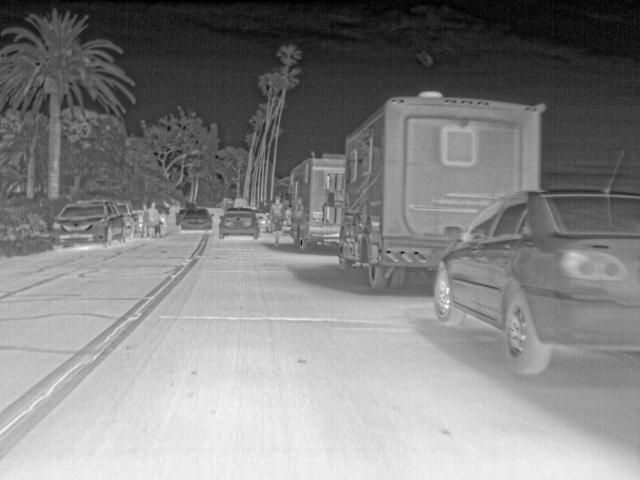car: (431, 188, 639, 377), (50, 198, 125, 246), (220, 206, 258, 240), (115, 200, 135, 238), (184, 209, 214, 232), (255, 209, 269, 234), (174, 209, 187, 225)
person: (270, 193, 285, 246), (145, 203, 160, 239), (138, 203, 148, 239)
